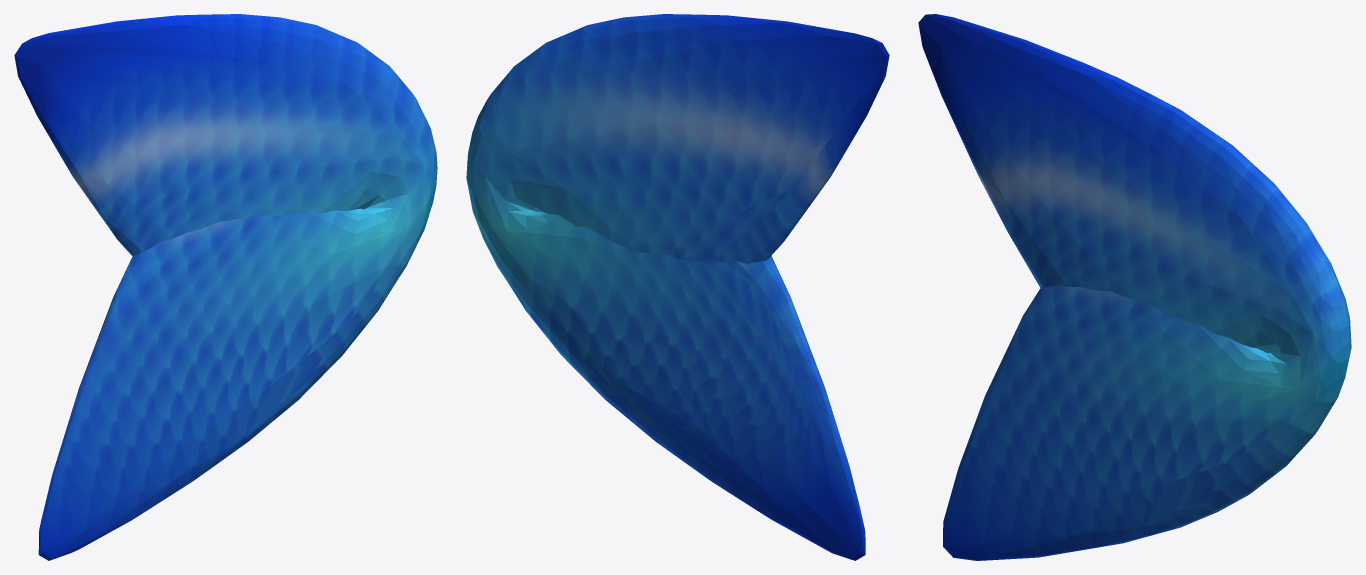
The model's file is Fish5_Tail_new11.dae.
The picture shows the model from 3 angles, left to right: view 1: azimuth 30°, elevation 25°; view 2: azimuth 150°, elevation 25°; view 3: azimuth 330°, elevation 25°; orthographic projection. The views are drawn at different scales.
Visible parts, largest first — view 1: Cube_001; view 2: Cube_001; view 3: Cube_001.
Boxes of the visible parts, box(x1,y1,x2,y2) form: Cube_001: box(14, 14, 437, 560); Cube_001: box(466, 14, 889, 560); Cube_001: box(918, 14, 1351, 560).
Size of the model in its own units: 1.4 by 0.1475 by 1.68.
1 material, 1 textured.
